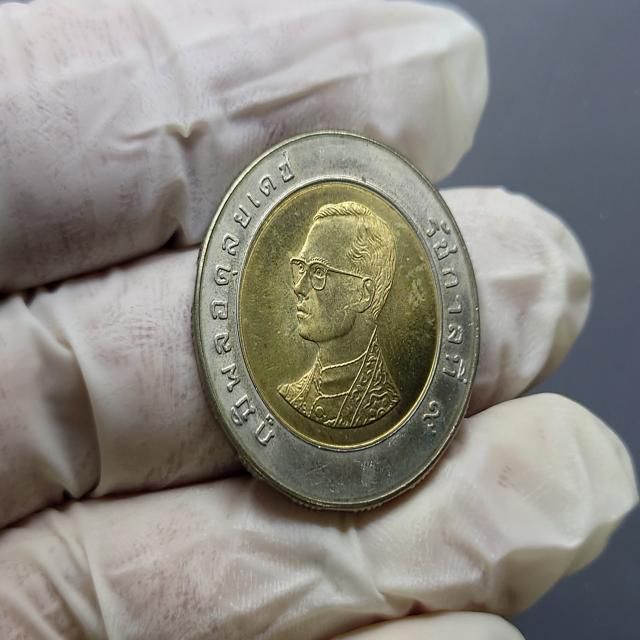10 Bath: (189, 131, 484, 514)
